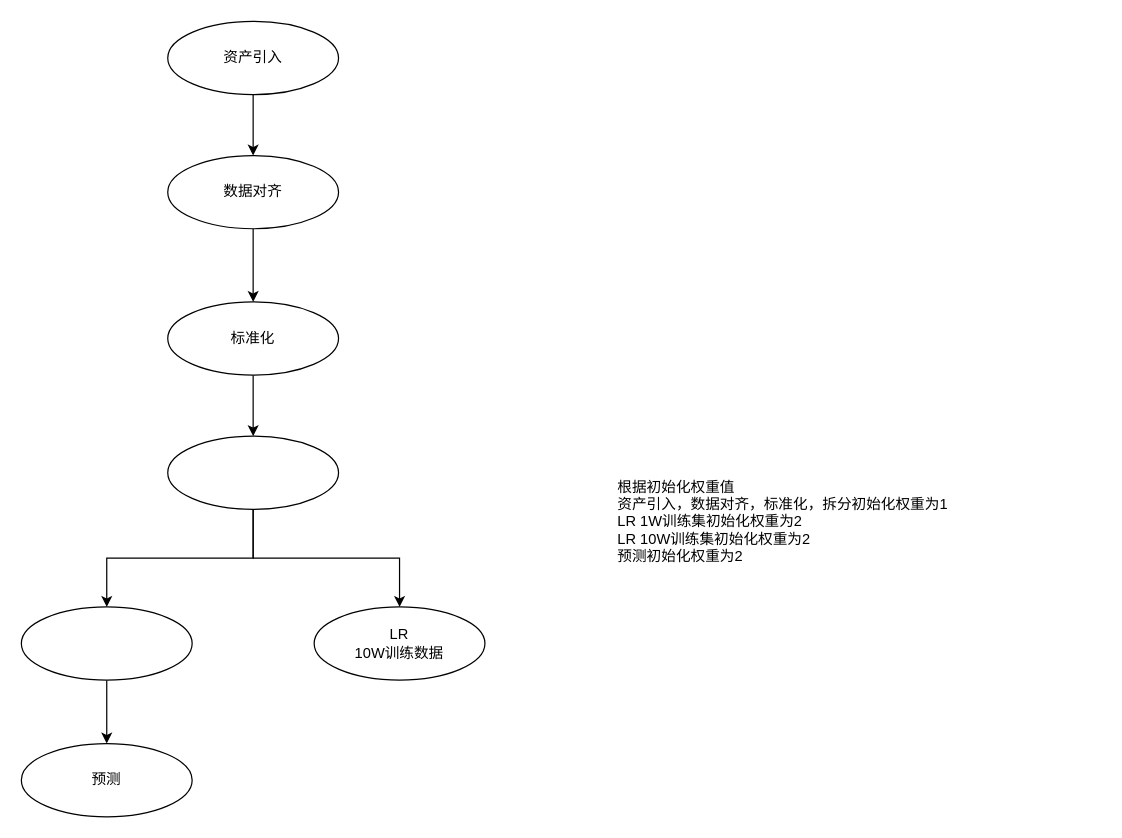
Image size: 1122x838. Some labels were removed from this diagram. Each missing label, with the centre of its shape:
"LR 1W训练数据" belongs at pixel 106 643.
"拆分" belongs at pixel 253 472.
